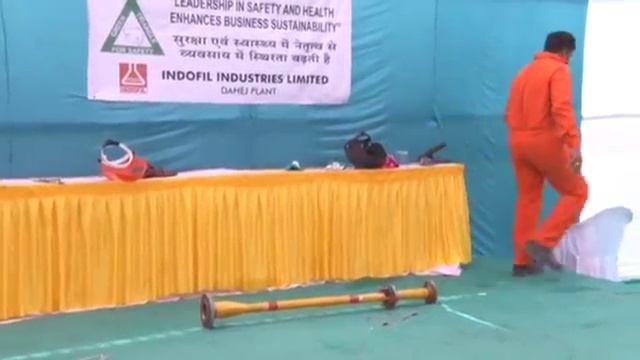helmet_off: (542, 30, 577, 67)
person: (495, 27, 594, 276)
